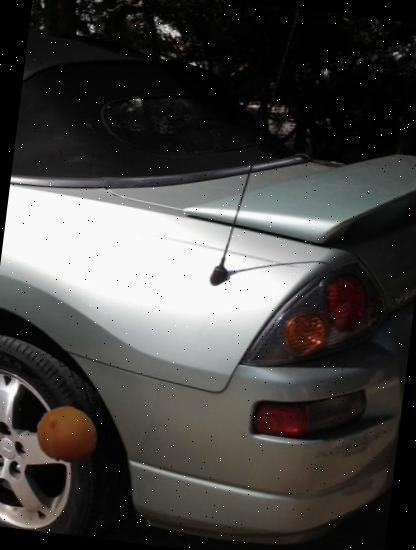Apricot: (32, 401, 102, 470)
